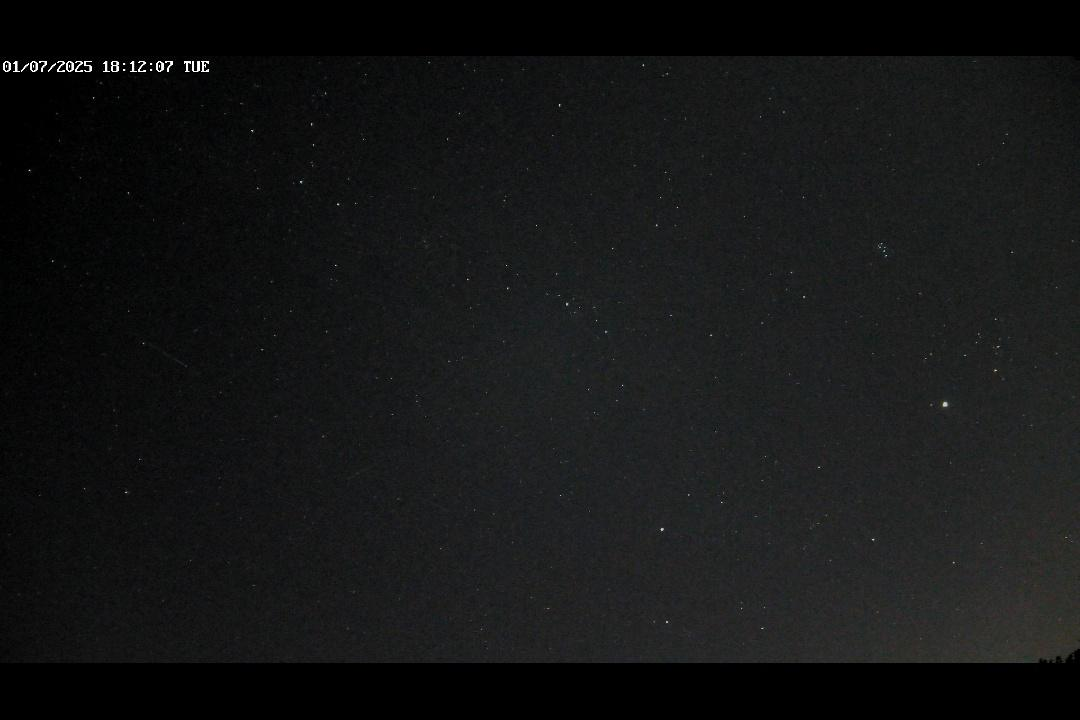Plane: (338, 460, 375, 485), (168, 350, 199, 368)
